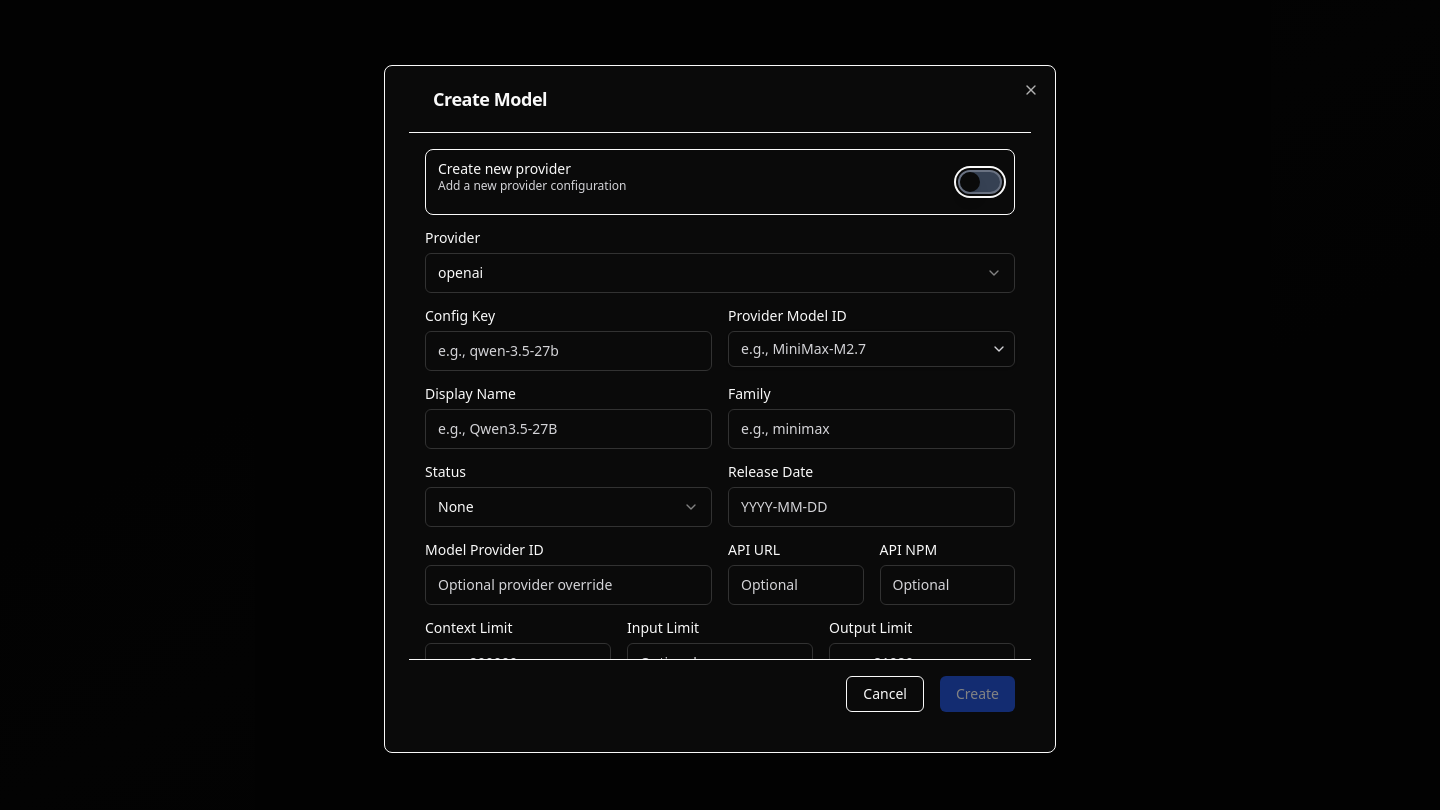
Scenario: OpenCodeModelDialog › form validation › should validate model id format
This screenshot has width=1440, height=810.
Type "invalid model id!" into the field named "modelId". click: (568, 351)
box: [425,331,712,371]
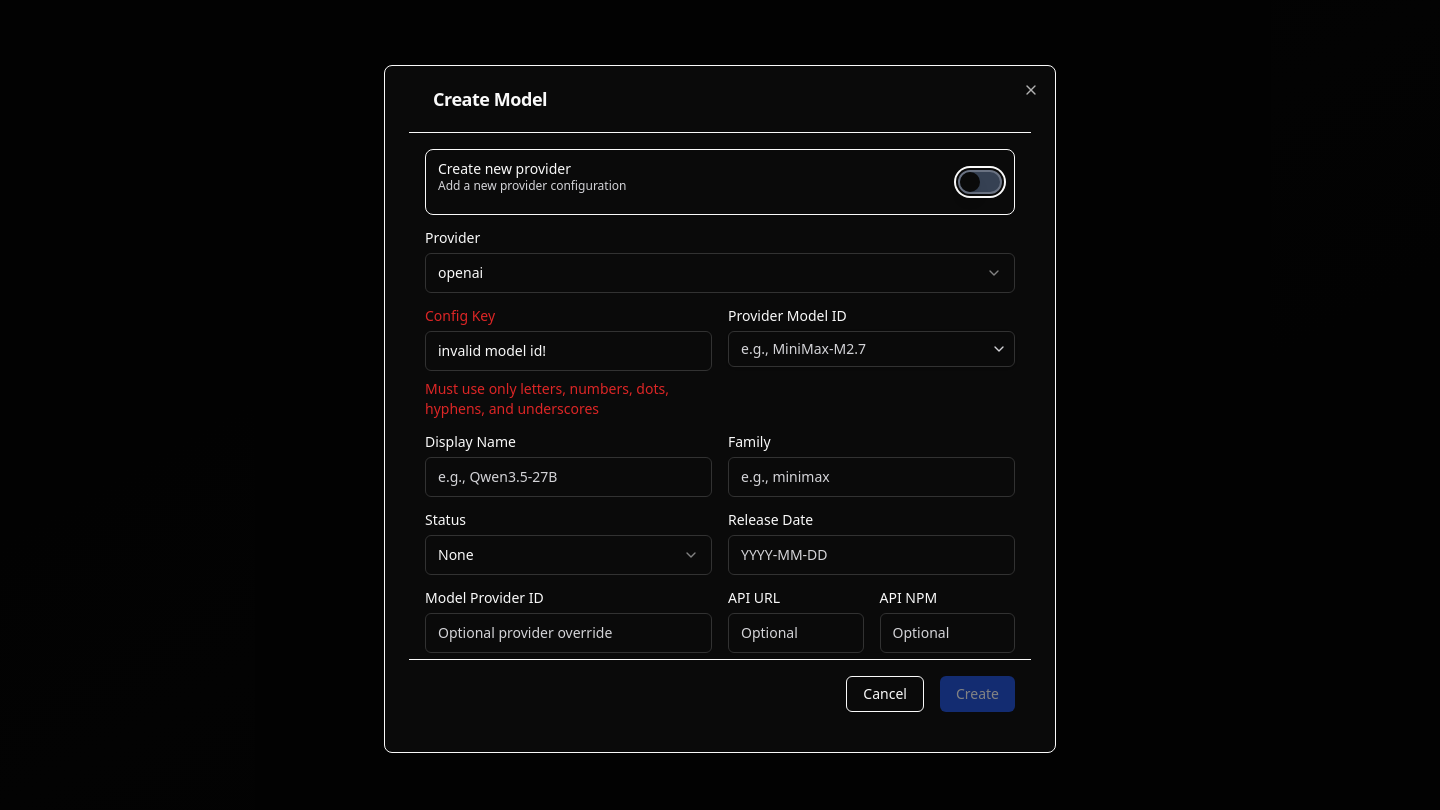
Expected: the text "Must use only letters, numbers" is shown, [425,379,669,418]
